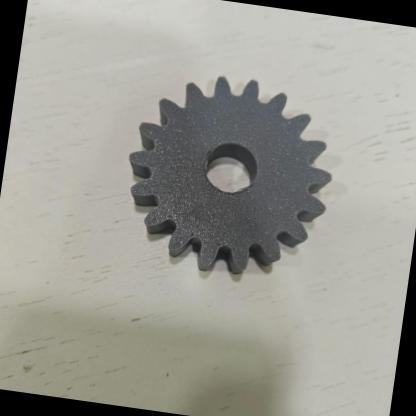gear: (88, 47, 366, 310)
